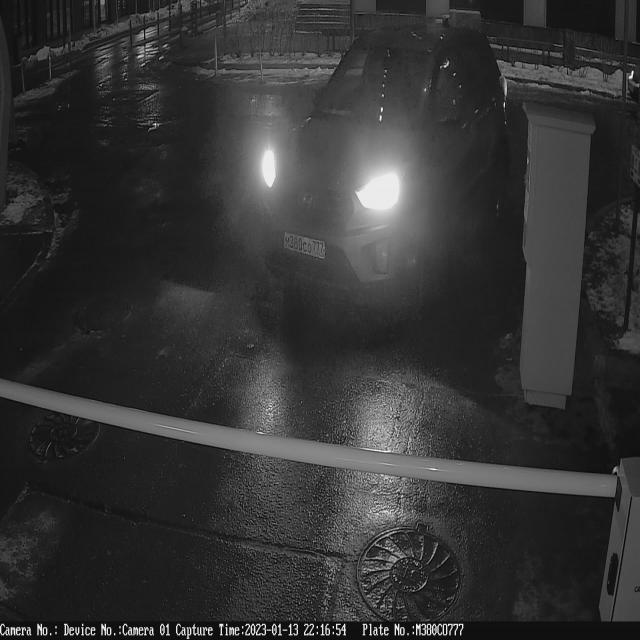car-plate-numbers: (283, 227, 330, 265)
